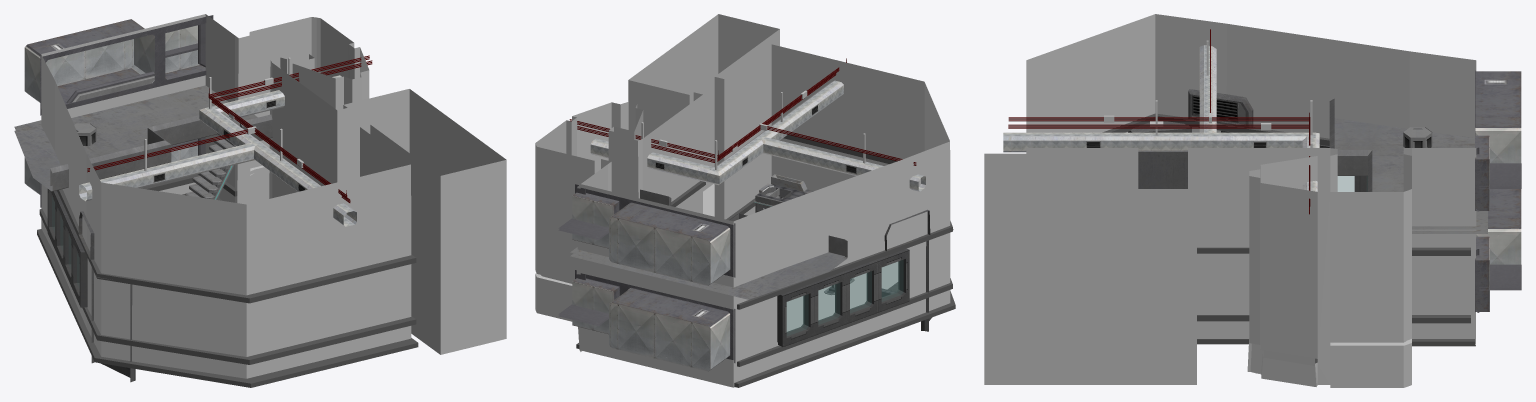
File: Room2_v4_Textured.fbx
3 renders of one model, left to right at view 1: azimuth 30°, elevation 25°; view 2: azimuth 150°, elevation 25°; view 3: azimuth 270°, elevation 25°, orthographic. The views are drawn at different scales.
Parts seen in each view (by area): view 1: pCube1, pCube70, pCube158, pCube159, pCube138, pCylinder48, polySurface16, pCube207, pCube163, pCube187; view 2: pCube1, pCube163, pCube159, pCube138, polySurface16, pCube70, pCube158, pCube191, pCylinder48, pCube184, pCube164, pCube208 (+1 smaller); view 3: pCube1, pCube138, pCube158, pCube159, pCube163, pCylinder48, pCube70, pCube187, pCube188, pCube190, pCube164, pCube208 (+1 smaller).
Boxes of the visible parts, x1,y1,x2,y2 form: pCube1: [41, 14, 506, 378]; pCube70: [37, 174, 418, 387]; pCube158: [14, 85, 272, 191]; pCube159: [24, 15, 213, 115]; pCube138: [79, 75, 356, 226]; pCylinder48: [87, 55, 372, 202]; polySurface16: [47, 189, 87, 307]; pCube207: [66, 71, 154, 103]; pCube163: [24, 142, 197, 207]; pCube187: [91, 267, 135, 382]; pCube1: [535, 14, 950, 387]; pCube163: [572, 270, 735, 371]; pCube159: [572, 184, 735, 285]; pCube138: [590, 80, 925, 191]; polySurface16: [777, 248, 909, 346]; pCube70: [576, 133, 955, 387]; pCube158: [570, 189, 847, 299]; pCube191: [787, 260, 902, 335]; pCylinder48: [569, 58, 916, 165]; pCube184: [753, 184, 813, 212]; pCube164: [558, 304, 608, 325]; pCube208: [558, 218, 608, 239]; pCube1: [984, 14, 1476, 387]; pCube138: [1003, 45, 1319, 191]; pCube158: [1329, 98, 1487, 233]; pCube159: [1475, 70, 1521, 210]; pCube163: [1475, 189, 1521, 311]; pCylinder48: [1008, 29, 1310, 214]; pCube70: [1102, 113, 1474, 346]; pCube187: [1128, 120, 1191, 188]; pCube188: [1188, 89, 1253, 127]; pCube190: [1197, 247, 1249, 344]; pCube164: [1479, 264, 1521, 290]; pCube208: [1479, 163, 1521, 188].
Size of the model in its own units: 13.74 by 7.75 by 16.79.
